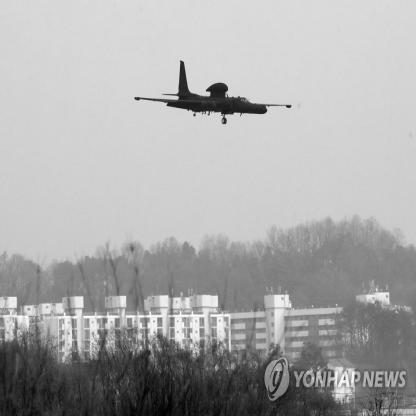U2: (135, 61, 293, 125)
